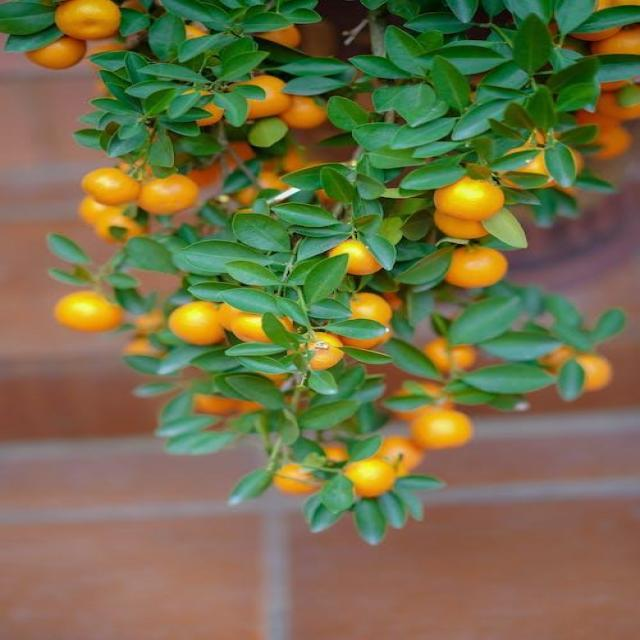Jeruk Sudah Matang: (430, 176, 506, 222), (56, 288, 126, 332), (226, 70, 290, 118), (52, 0, 126, 40), (137, 173, 201, 216), (447, 248, 512, 290), (409, 410, 476, 450), (169, 300, 227, 346), (342, 454, 400, 498), (22, 34, 88, 69), (326, 234, 381, 274), (82, 167, 142, 203), (378, 435, 428, 476), (278, 92, 328, 132), (432, 206, 490, 240), (232, 312, 280, 346), (426, 334, 474, 368), (340, 294, 396, 322), (270, 465, 324, 494), (303, 336, 347, 368), (580, 358, 614, 394)
